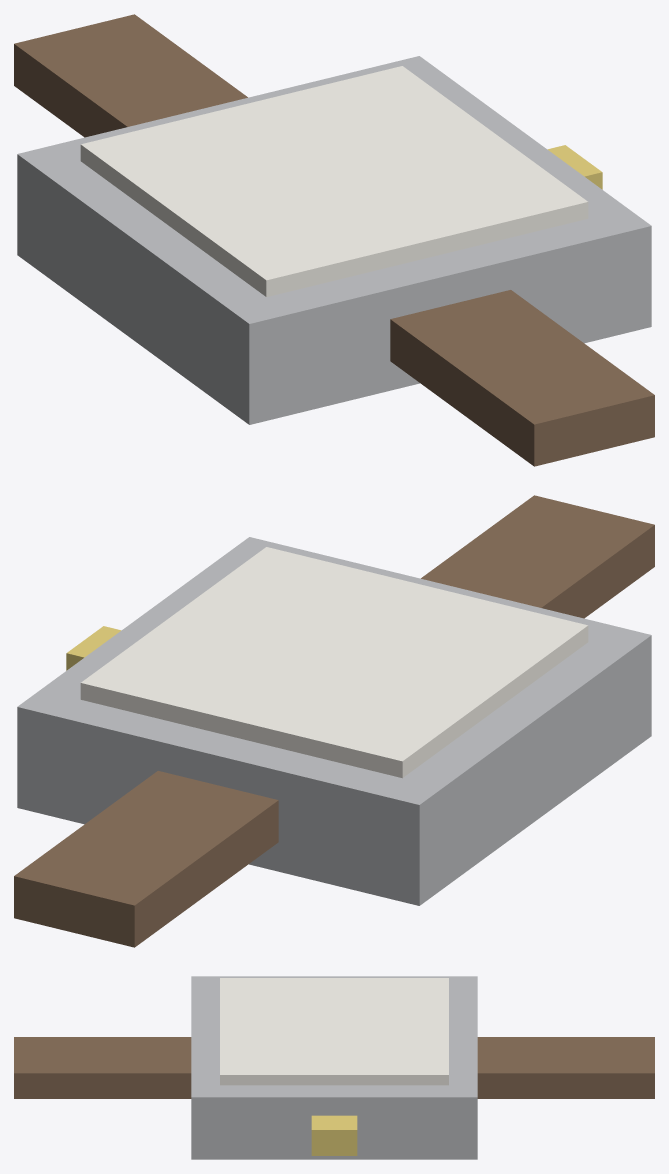
Rendered from watch.glb.
The picture shows the model from 3 angles, top to bottom: view 1: azimuth 30°, elevation 25°; view 2: azimuth 150°, elevation 25°; view 3: azimuth 270°, elevation 25°; orthographic projection. The views are drawn at different scales.
Visible parts, largest first — view 1: Case, Face, StrapTop, StrapBottom, Crown; view 2: Case, Face, StrapBottom, StrapTop, Crown; view 3: Case, Face, StrapTop, StrapBottom, Crown.
Part boxes in pixels (bbox=[...]): Case: bbox=[17, 56, 651, 424]; Face: bbox=[80, 66, 588, 297]; StrapTop: bbox=[390, 290, 654, 466]; StrapBottom: bbox=[14, 14, 247, 137]; Crown: bbox=[547, 145, 602, 189]; Case: bbox=[17, 537, 651, 905]; Face: bbox=[80, 547, 588, 778]; StrapBottom: bbox=[14, 771, 278, 947]; StrapTop: bbox=[421, 495, 654, 618]; Crown: bbox=[66, 626, 121, 670]; Case: bbox=[191, 976, 477, 1159]; Face: bbox=[220, 978, 448, 1085]; StrapTop: bbox=[14, 1037, 191, 1098]; StrapBottom: bbox=[477, 1037, 654, 1098]; Crown: bbox=[311, 1115, 357, 1155].
Bounding box in the file's own units: 1.12 × 0.28 × 2.24.
